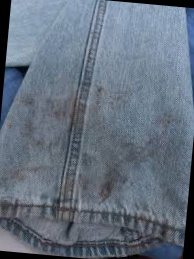earth: (45, 93, 91, 126), (75, 172, 116, 199), (12, 169, 26, 182)
